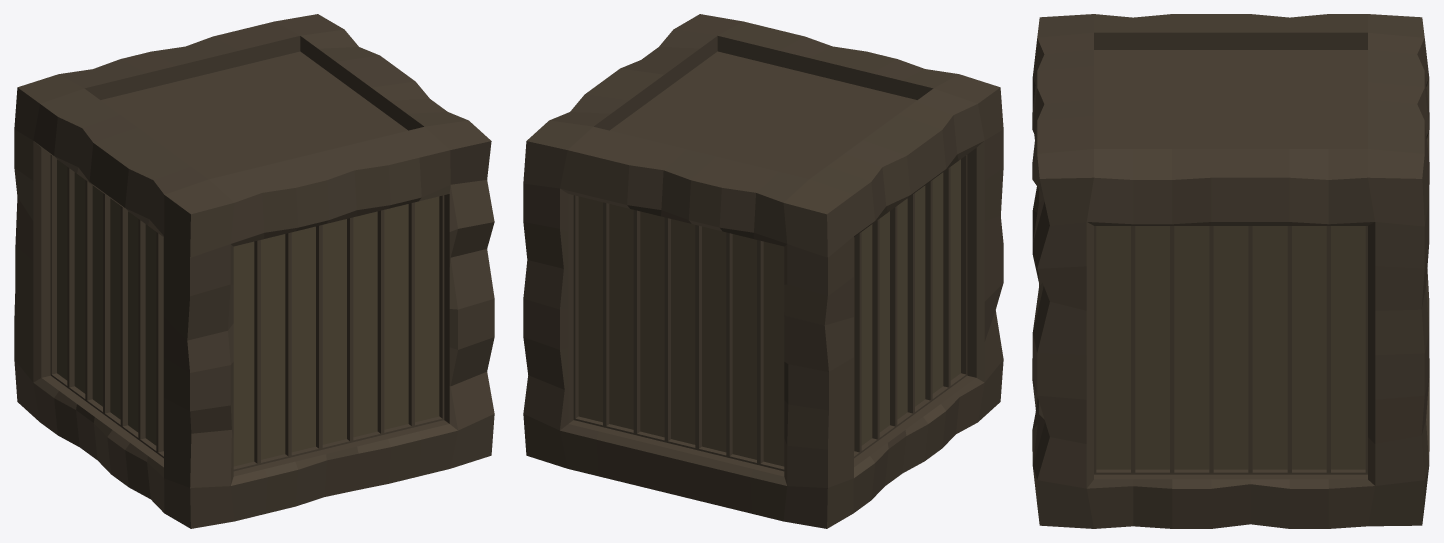
3 views of the same model, side by side, from view 1: azimuth 30°, elevation 25°; view 2: azimuth 150°, elevation 25°; view 3: azimuth 270°, elevation 25° (orthographic). The views are drawn at different scales.
Visible parts, largest first — view 1: ลูกบาศก์.165; view 2: ลูกบาศก์.165; view 3: ลูกบาศก์.165.
Part boxes in pixels (x1,y1,x2,y2): ลูกบาศก์.165: (14,14,494,528); ลูกบาศก์.165: (523,14,1003,528); ลูกบาศก์.165: (1032,14,1429,528).
Size of the model in its own units: 406 by 407 by 406.
